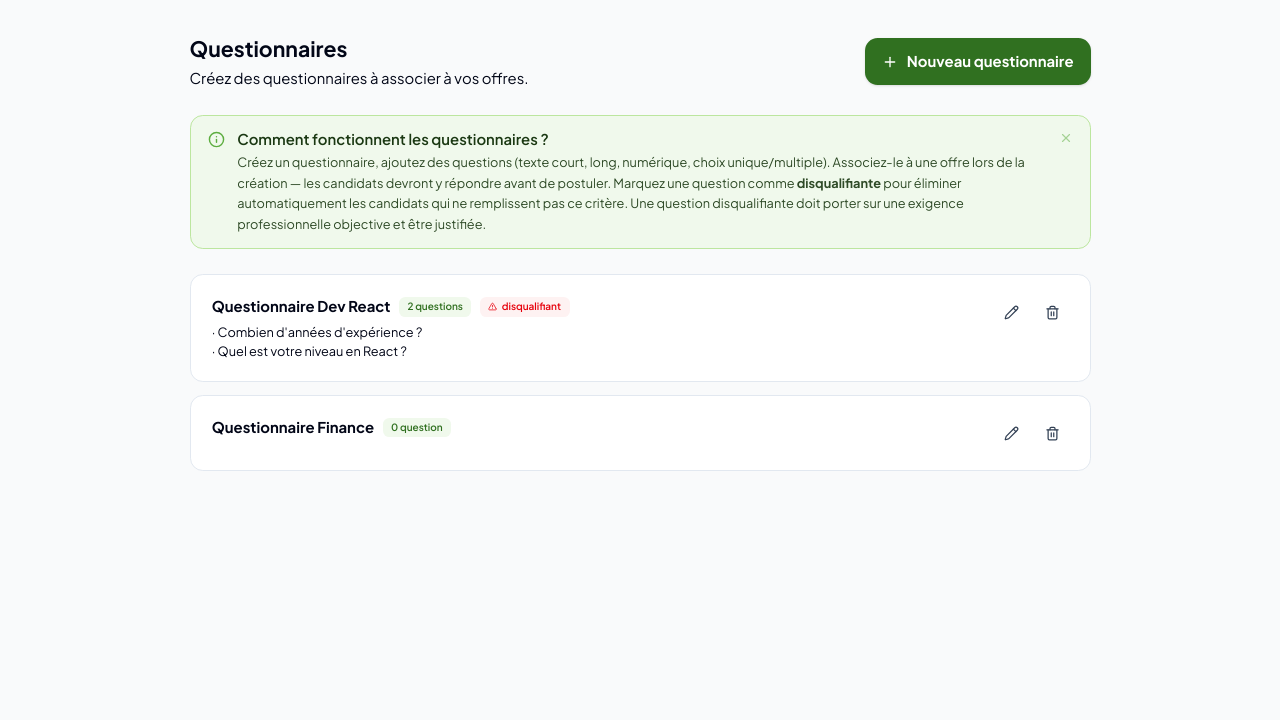
Test: 📋 UI & Logique - Composant <Questionnaires /> › 🟢 HP3 : Ouverture modale création
Click the button "Nouveau questionnaire". click: (978,62)
box: [865,38,1090,85]
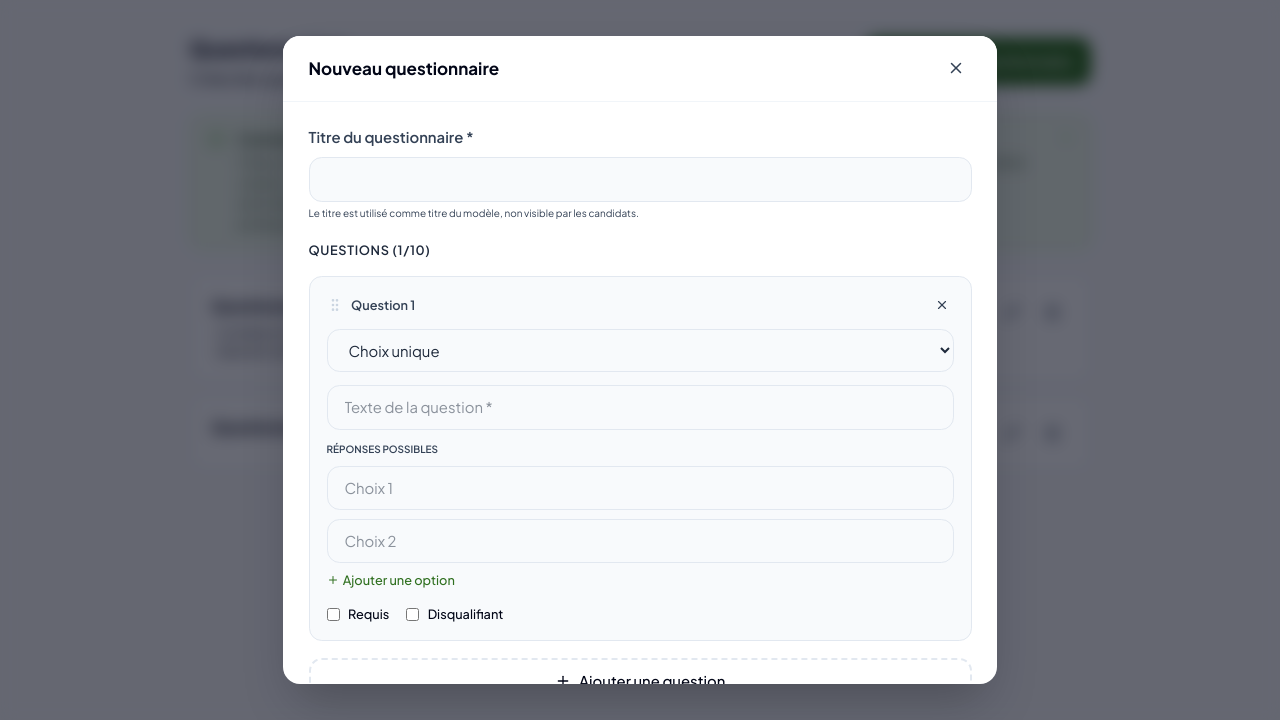
Expected: the text "Titre du questionnaire *" is shown, [308,128,474,146]
